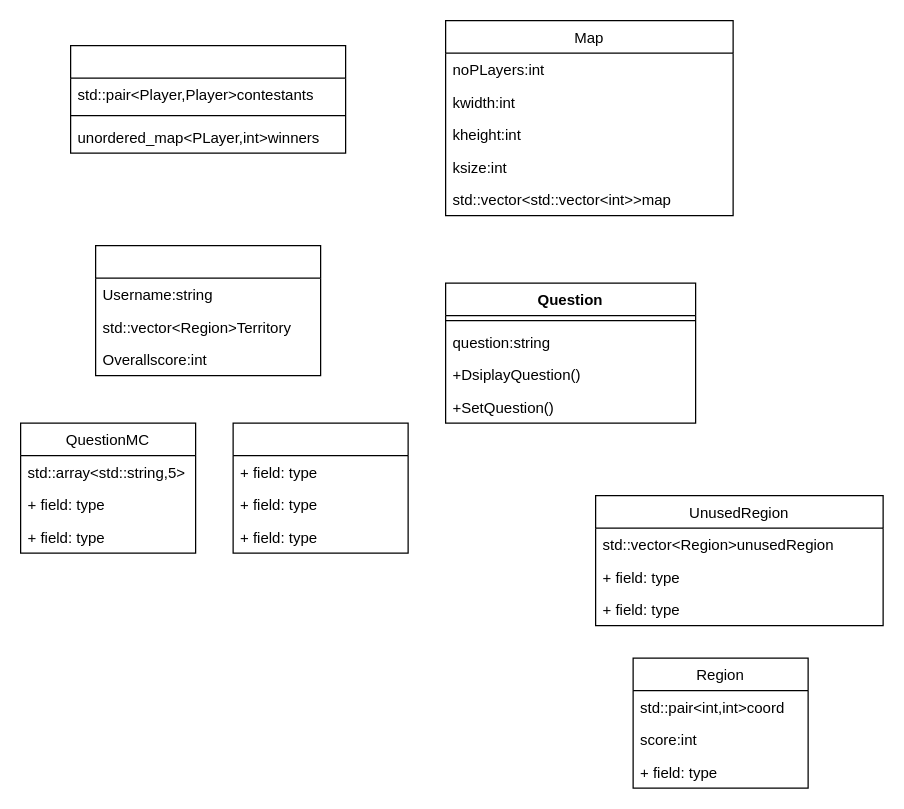
Some shapes in this 904 by 809 pixel diagram are drawn without their labels. The box of each missing label's shape, as (x1, y1, x2, y2) in pixels:
Duel: (69, 44, 346, 153)
Player: (94, 244, 321, 376)
QuestionSC: (232, 422, 408, 553)
